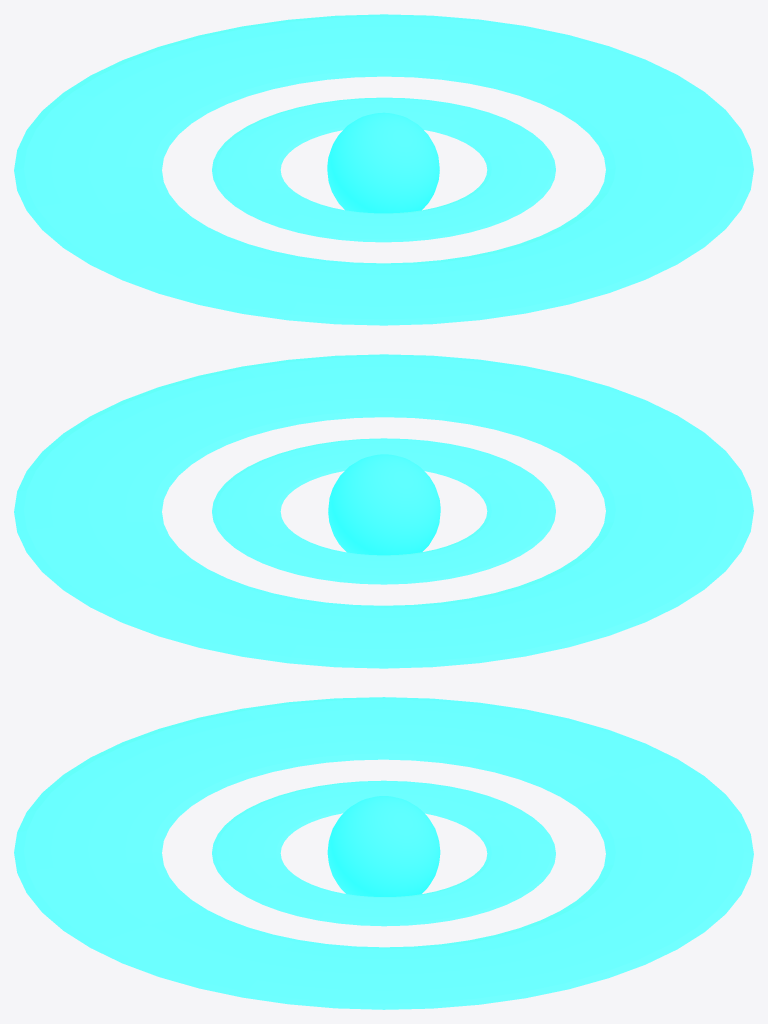
The model's file is planetpreloader.gltf.
3 renders of one model, top to bottom at view 1: azimuth 30°, elevation 25°; view 2: azimuth 150°, elevation 25°; view 3: azimuth 270°, elevation 25°, orthographic.
Parts seen in each view (by area): view 1: Torus.001, Torus, Sphere; view 2: Torus.001, Torus, Sphere; view 3: Torus.001, Torus, Sphere.
Part boxes in pixels (box(x1,y1,x2,y2)): Torus.001: box(14, 14, 753, 325); Torus: box(212, 97, 555, 242); Sphere: box(327, 112, 439, 213); Torus.001: box(14, 354, 753, 668); Torus: box(212, 438, 555, 584); Sphere: box(328, 454, 440, 555); Torus.001: box(14, 697, 753, 1009); Torus: box(212, 780, 555, 926); Sphere: box(327, 796, 440, 896).
Bounding box in the file's own units: 5.85 × 0.8922 × 5.85.
